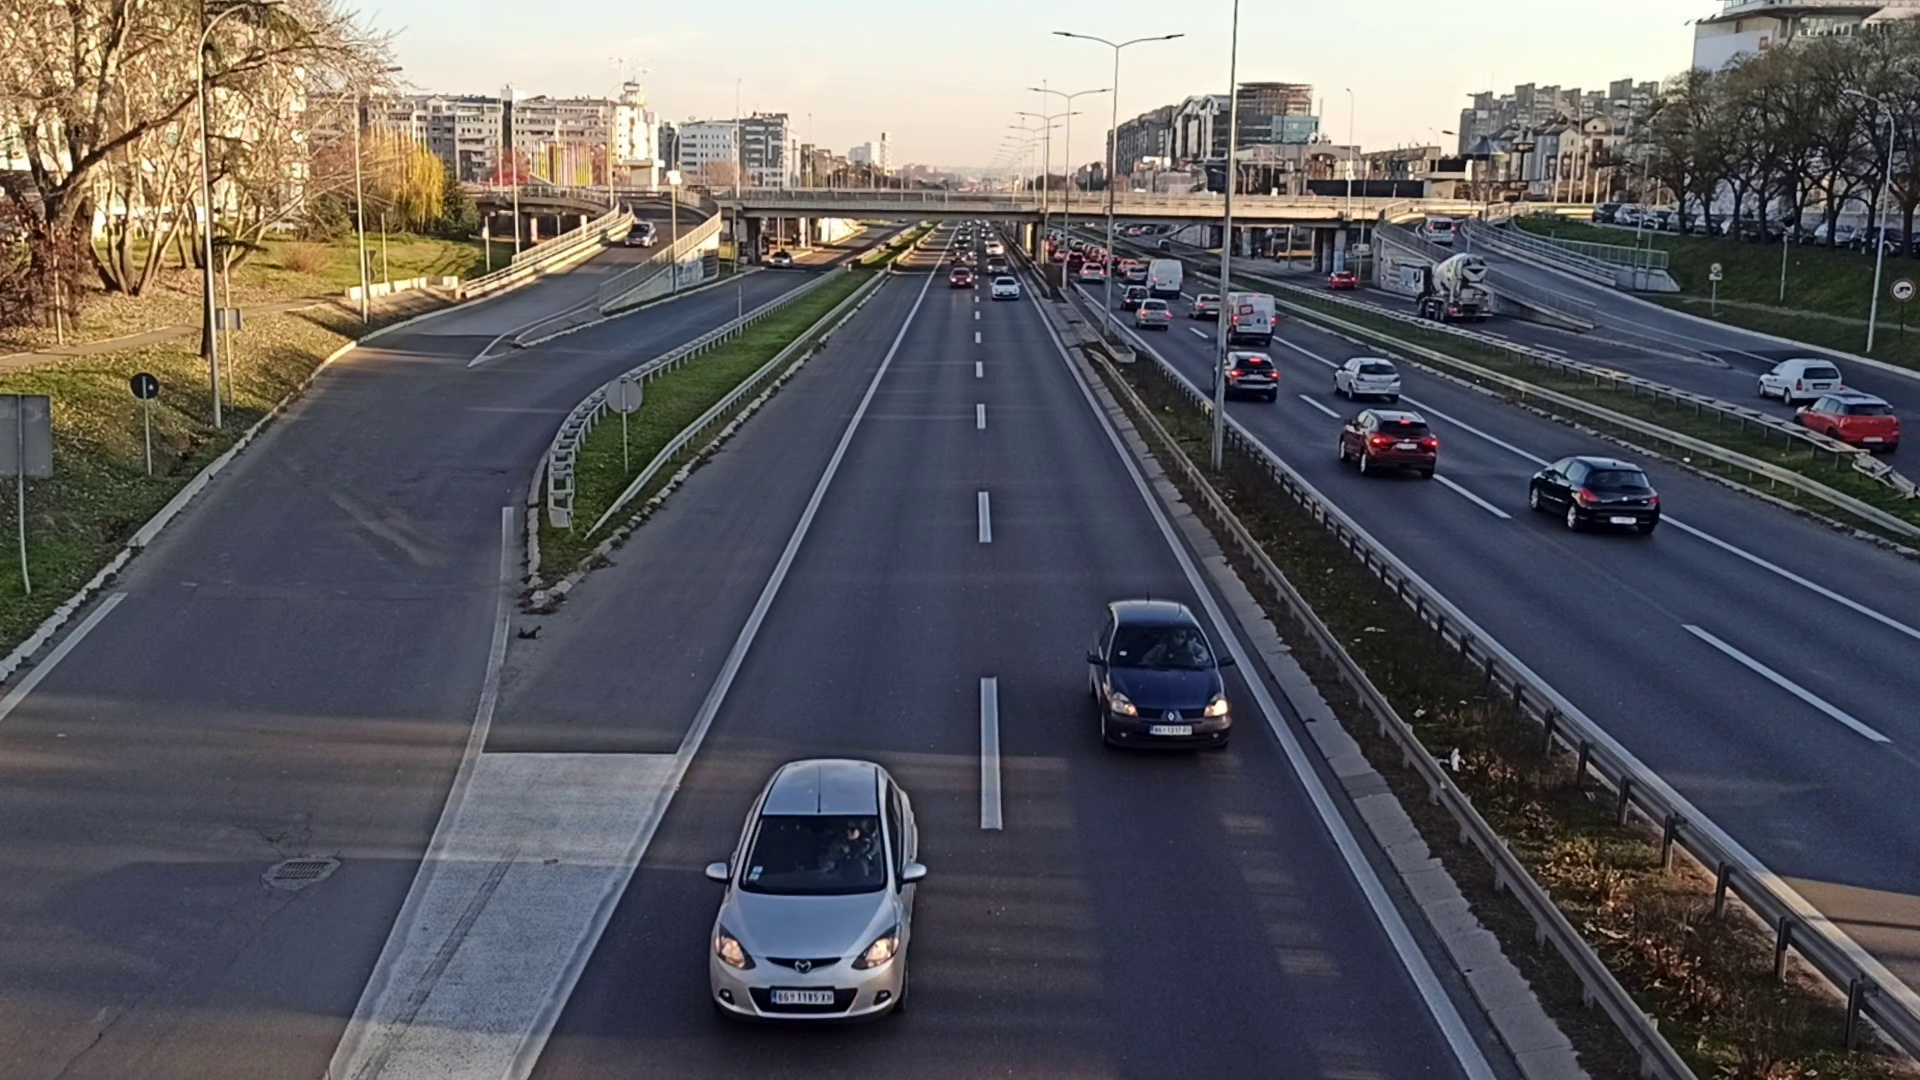car: (703, 756, 920, 1013), (1088, 596, 1232, 753), (1530, 454, 1664, 538), (1338, 413, 1435, 477), (1218, 344, 1276, 405), (1335, 353, 1400, 400), (1134, 297, 1174, 332), (990, 276, 1021, 301), (945, 265, 971, 285)
truck: (1415, 255, 1487, 319)
van: (1218, 291, 1280, 344), (1145, 258, 1180, 294)
